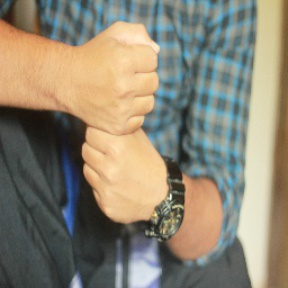G: (70, 15, 170, 219)
